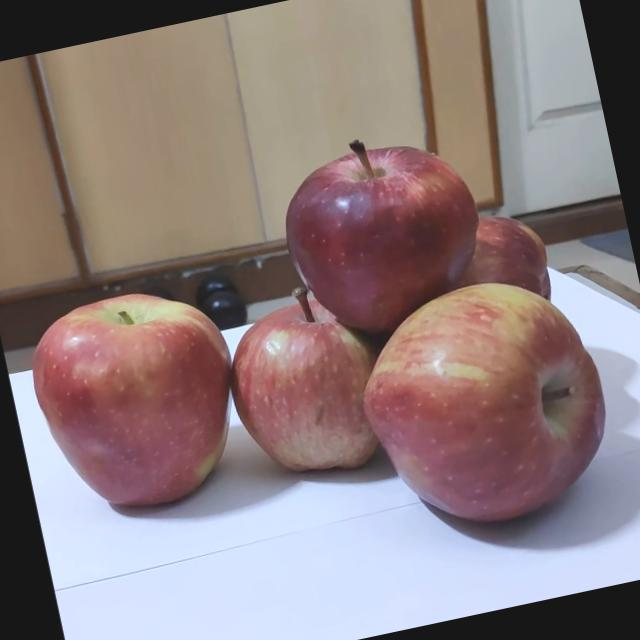apple: (340, 290, 636, 588), (0, 265, 282, 564), (256, 122, 514, 382), (204, 290, 422, 523), (378, 215, 596, 392)
